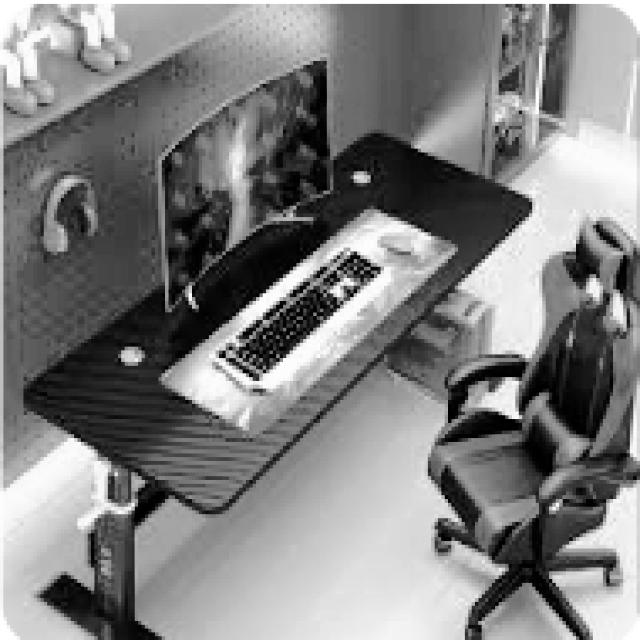book: (424, 214, 636, 636)
table: (20, 126, 532, 636)
